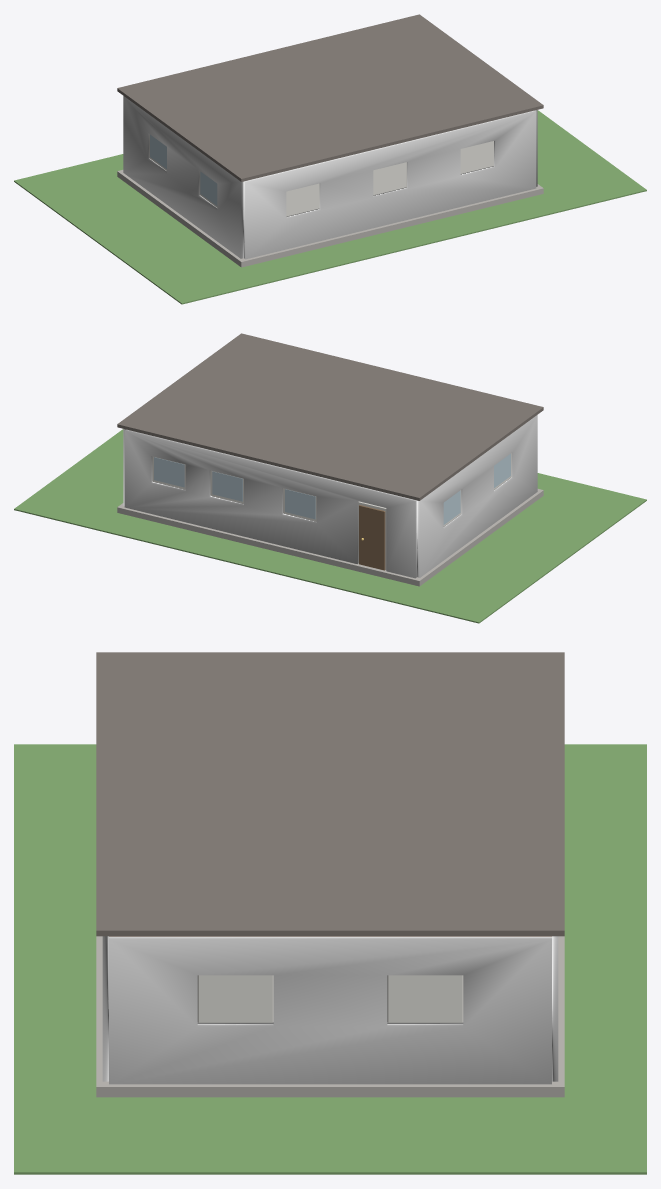
File: house_ranch.glb
3 renders of one model, top to bottom at view 1: azimuth 30°, elevation 25°; view 2: azimuth 150°, elevation 25°; view 3: azimuth 270°, elevation 25°, orthographic. The views are drawn at different scales.
Visible parts, largest first — view 1: roof, lawn, back_wall, left_wall, frame (×5), foundation; view 2: roof, lawn, front_wall, left_wall, frame (×5), foundation, glass (×3), panel; view 3: roof, lawn, right_wall, foundation, frame (×2), front_wall, back_wall.
Part boxes in pixels (x1,y1,x2,y2): roof: (117, 14, 543, 181); lawn: (14, 110, 646, 304); back_wall: (244, 110, 536, 259); left_wall: (123, 96, 243, 258); frame (×5): (149, 134, 493, 216); foundation: (117, 170, 543, 267); roof: (117, 333, 543, 500); lawn: (14, 429, 646, 623); front_wall: (124, 429, 416, 578); left_wall: (417, 415, 537, 577); frame (×5): (152, 453, 511, 526); foundation: (117, 489, 543, 586); glass (×3): (154, 457, 315, 518); panel: (359, 505, 385, 570); roof: (96, 652, 564, 936); lawn: (14, 744, 646, 1174); right_wall: (109, 936, 551, 1084); foundation: (96, 936, 564, 1097); frame (×2): (197, 975, 463, 1022); front_wall: (552, 936, 558, 1081); back_wall: (102, 936, 108, 1081).
Size of the model in its own units: 16 by 2.95 by 10.
